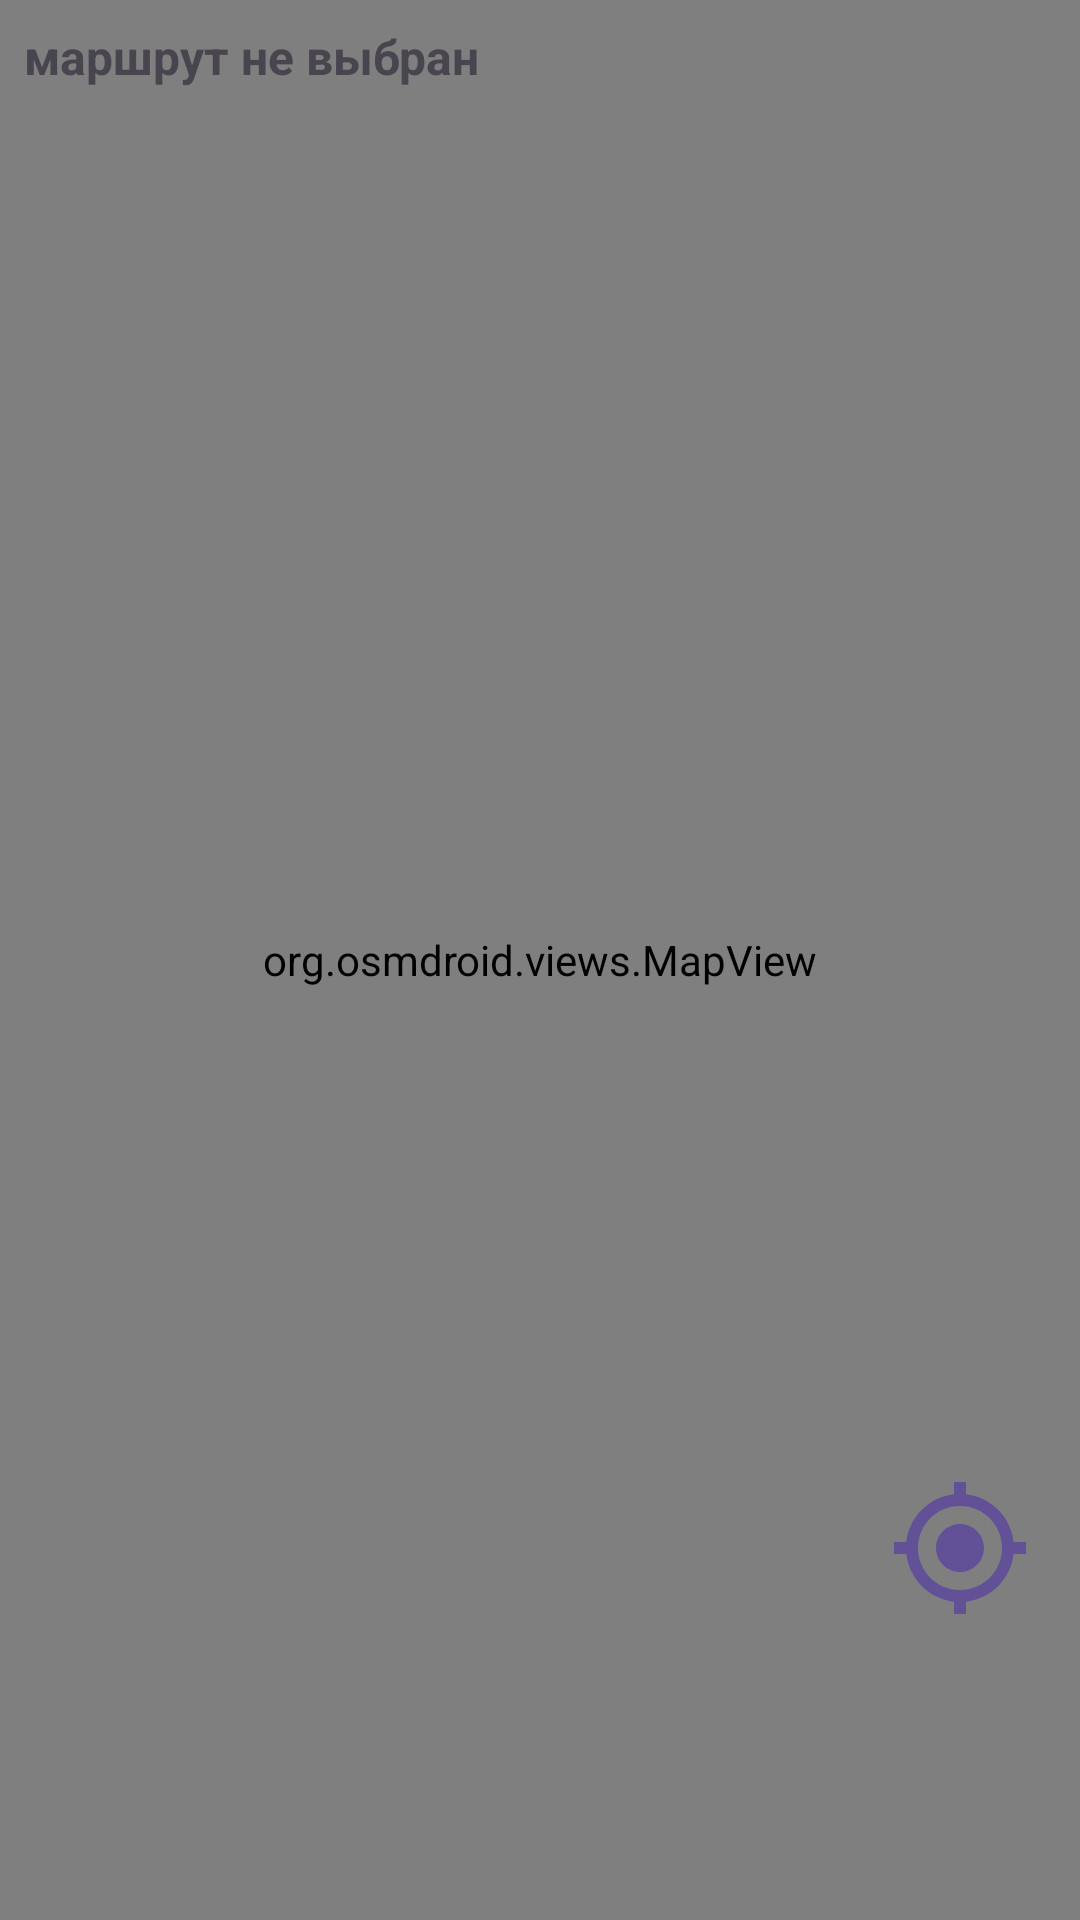

Screen size 1080px x 1920px. Icon name, then its box in pixels as [x1, y1, x2, y2]:
показать меня: [894, 1482, 1026, 1614]
